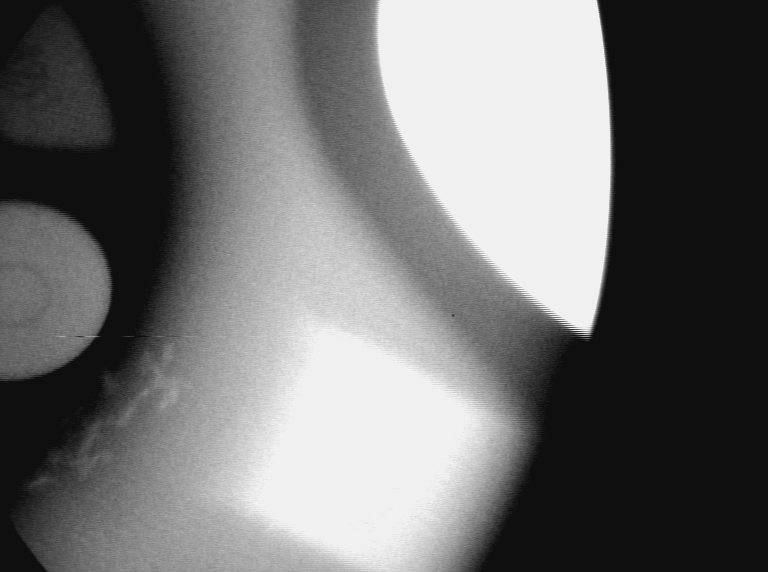defect: (23, 341, 183, 498)
